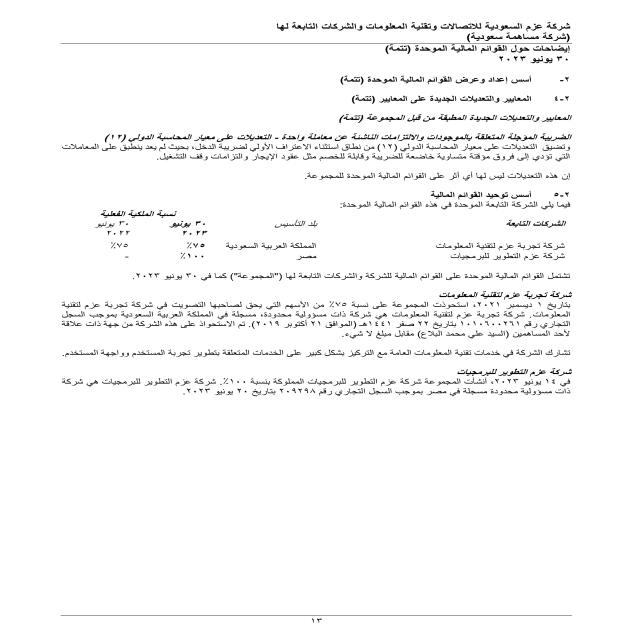notes: (359, 44, 575, 52)
text: (33, 66, 580, 425)
